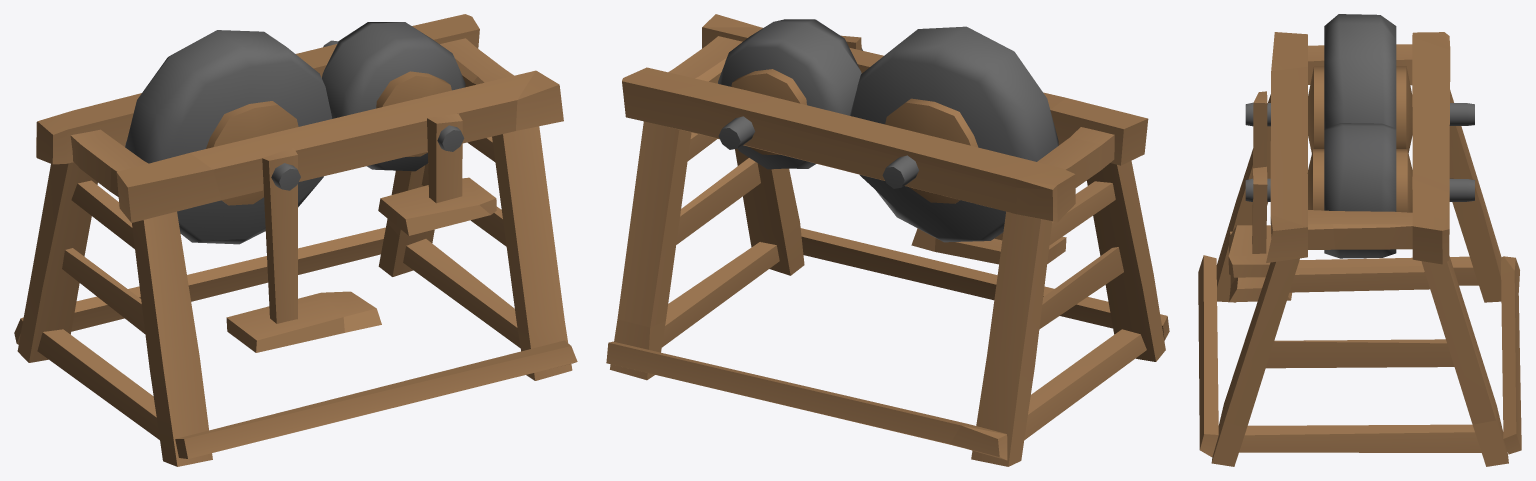
File: BlacksmithTool_G.fbx
3 views of the same model, side by side, from view 1: azimuth 30°, elevation 25°; view 2: azimuth 150°, elevation 25°; view 3: azimuth 270°, elevation 25° (orthographic). The views are drawn at different scales.
Parts seen in each view (by area): view 1: BlacksmithTool_G; view 2: BlacksmithTool_G; view 3: BlacksmithTool_G.
Boxes of the visible parts, x1,y1,x2,y2 form: BlacksmithTool_G: (14, 14, 577, 466); BlacksmithTool_G: (606, 14, 1169, 466); BlacksmithTool_G: (1198, 14, 1521, 466).
Size of the model in its own units: 139 by 105 by 95.67.
